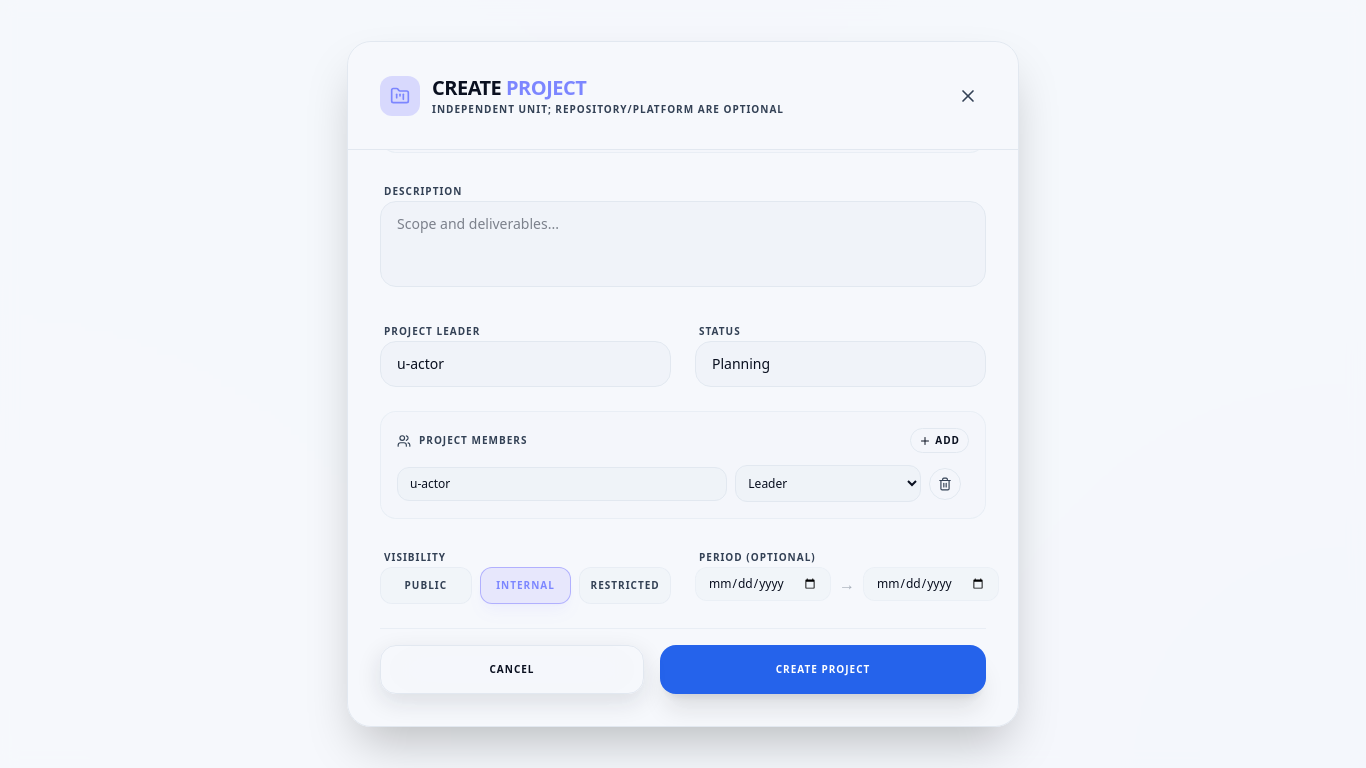
Test: ProjectCreationModal › promotes another member to leader and demotes existing leader (role-change branch)
(page scrolled)
// Add a second member
Click the button "Add": (940,440) [910,428,969,453]
(page scrolled)
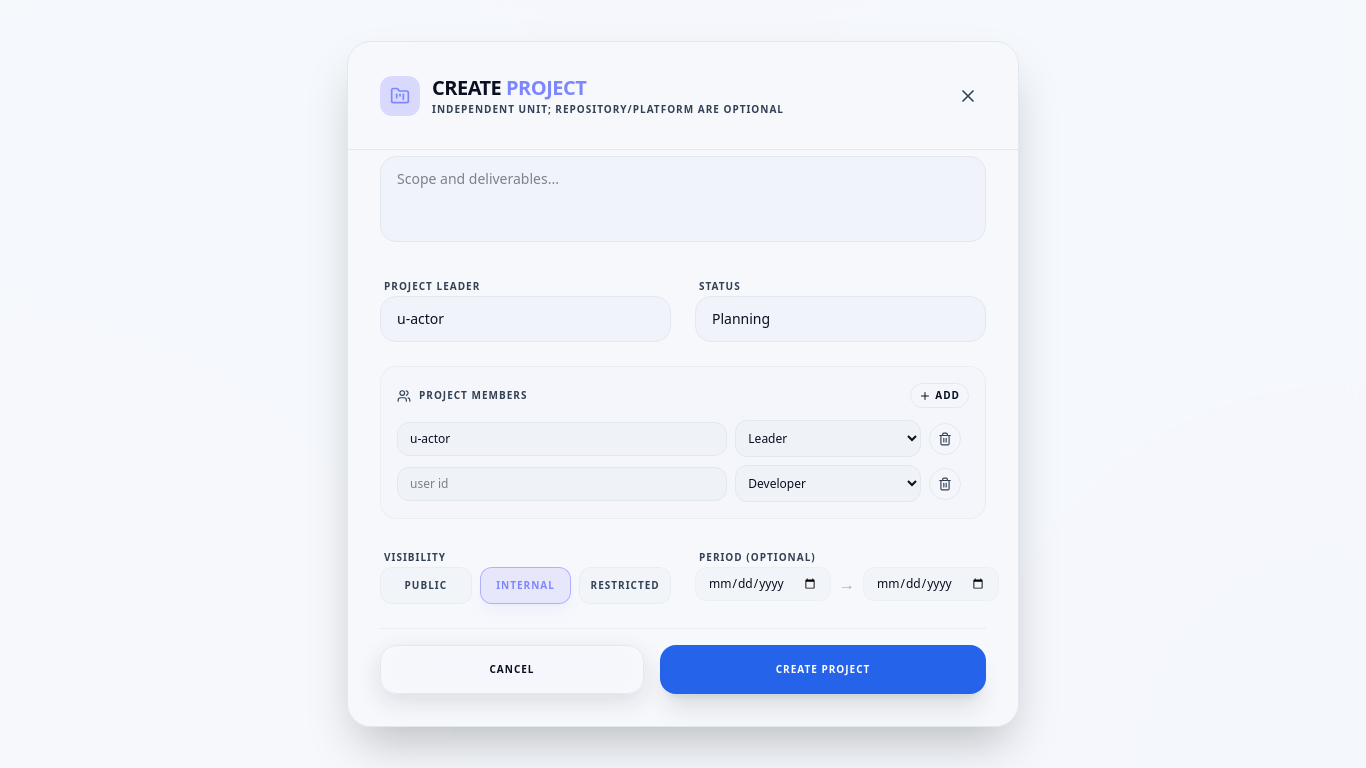
Check: the 2nd dropdown shows "Leader", box [735,420,921,457]
Check: the 3rd dropdown shows "Developer"
// Switch second member to "leader"
Select "Leader" in the 3rd dropdown: (828,484) [735,465,921,502]
(page scrolled)
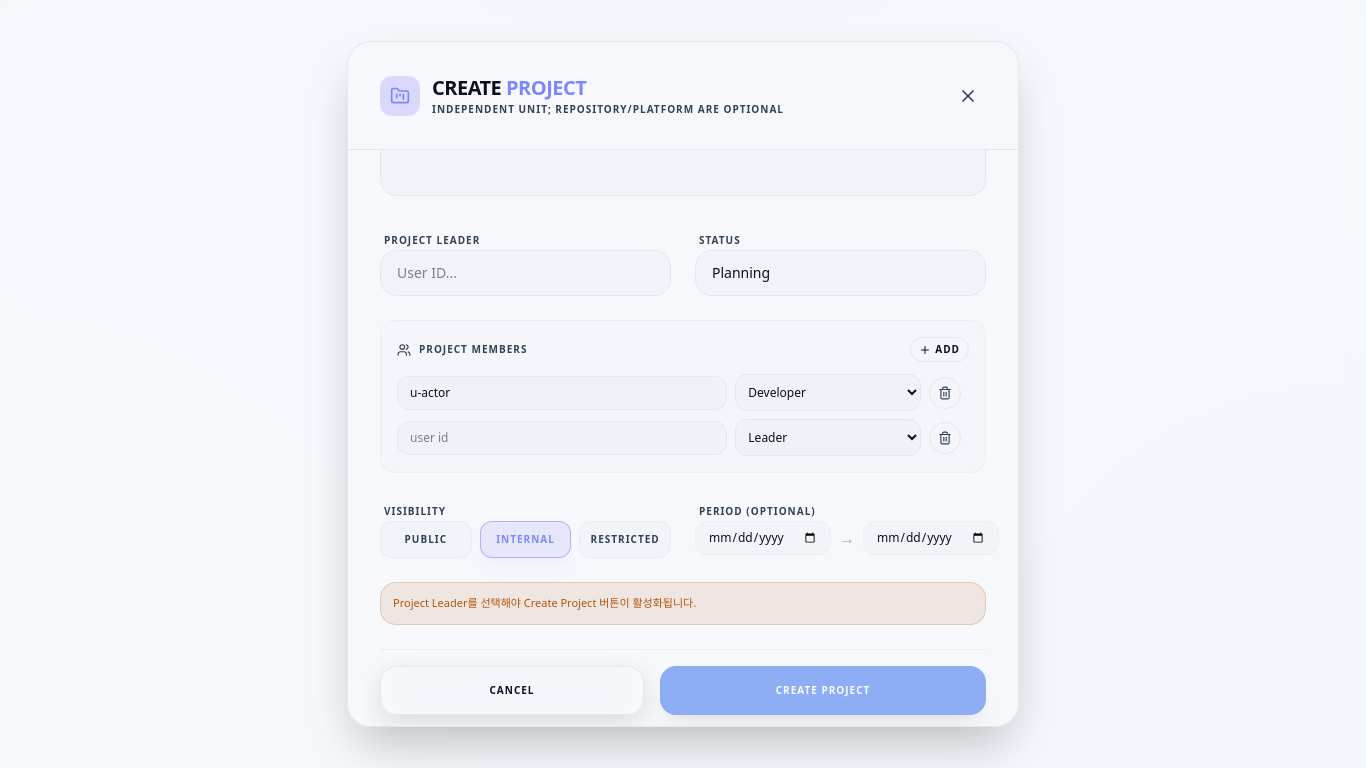
Check: the 2nd dropdown shows "Developer", box [735,374,921,411]
Check: the 3rd dropdown shows "Leader", box [735,419,921,456]
